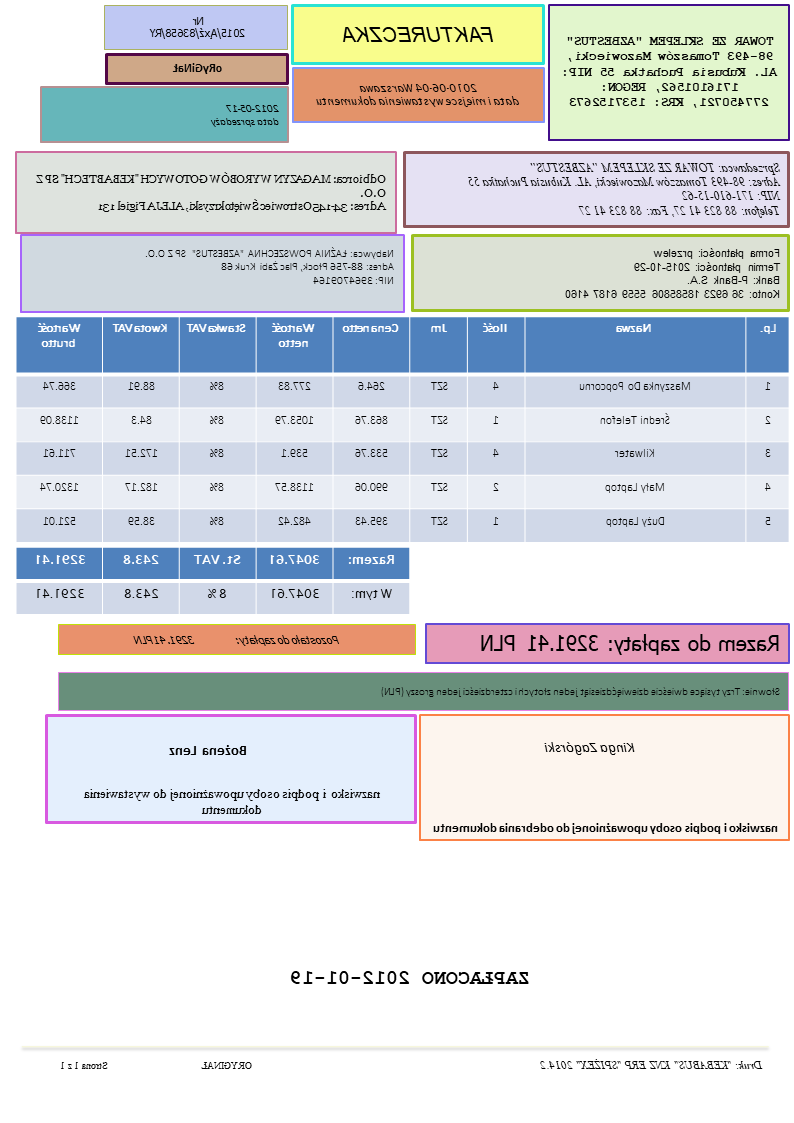Table: (15, 315, 790, 543), (16, 545, 411, 615)
TextBox: (467, 158, 782, 217), (562, 34, 780, 108), (35, 171, 389, 215), (562, 246, 782, 301), (143, 245, 398, 288), (83, 786, 381, 817), (479, 630, 781, 654), (379, 684, 781, 700), (434, 818, 781, 836), (313, 81, 522, 108), (289, 967, 531, 987), (537, 1056, 765, 1073), (131, 631, 342, 649), (340, 22, 496, 45), (59, 1058, 254, 1073), (147, 13, 247, 40), (210, 101, 281, 128), (543, 737, 638, 757), (166, 742, 249, 759), (171, 60, 224, 75)
